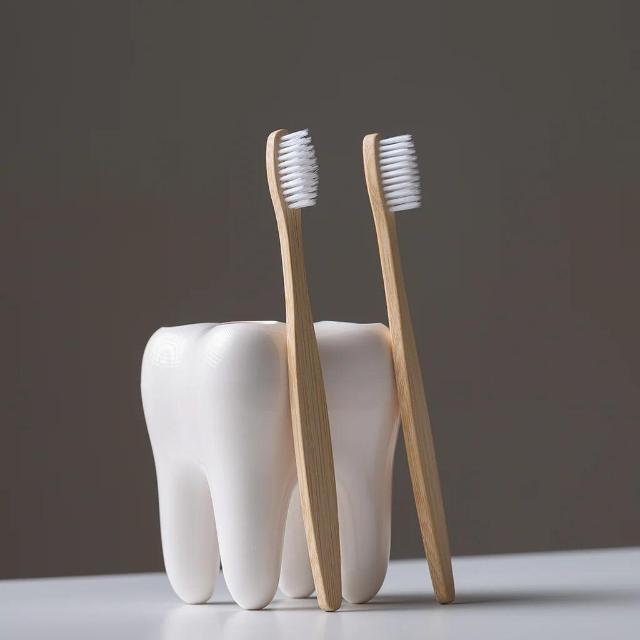toothbrush: (353, 124, 509, 550)
